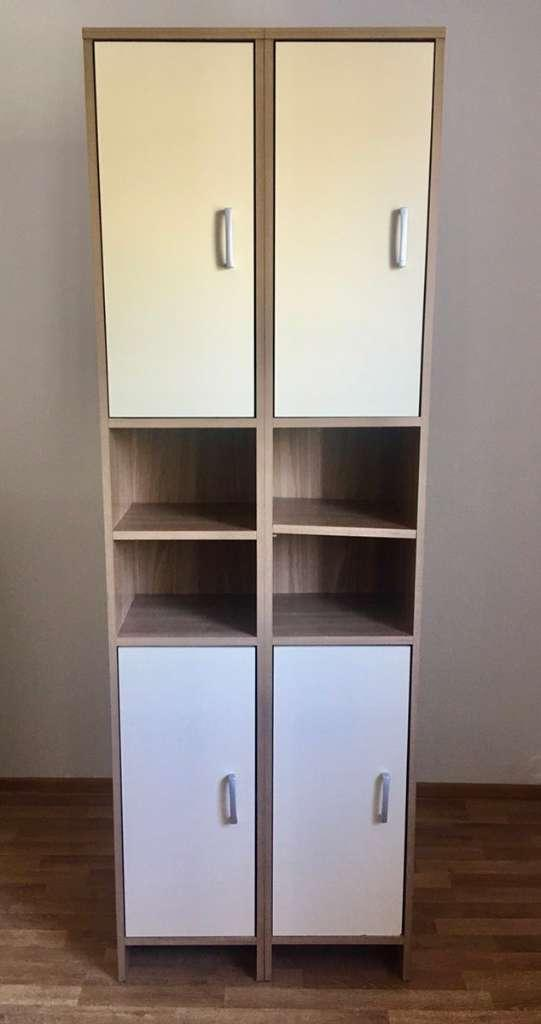cabinet_door: (99, 50, 251, 424), (278, 50, 429, 424), (278, 645, 411, 942), (124, 644, 259, 936)
handle: (367, 758, 397, 833), (213, 767, 242, 832), (388, 200, 408, 276), (213, 200, 231, 271)
